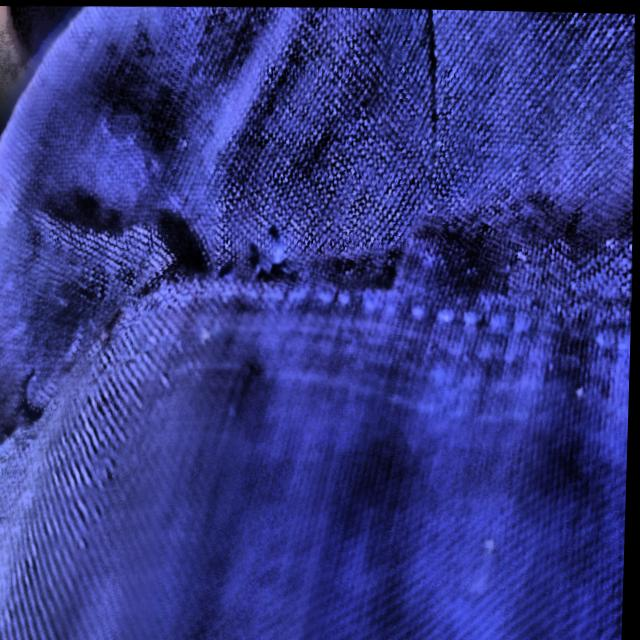Stitch: (183, 213, 309, 347)
